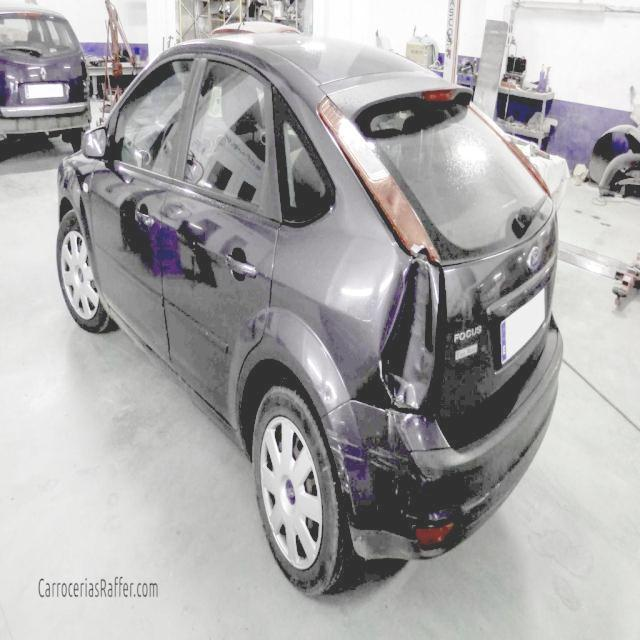minor: (363, 421, 422, 494), (335, 438, 372, 512)
moderate: (379, 256, 448, 412)
